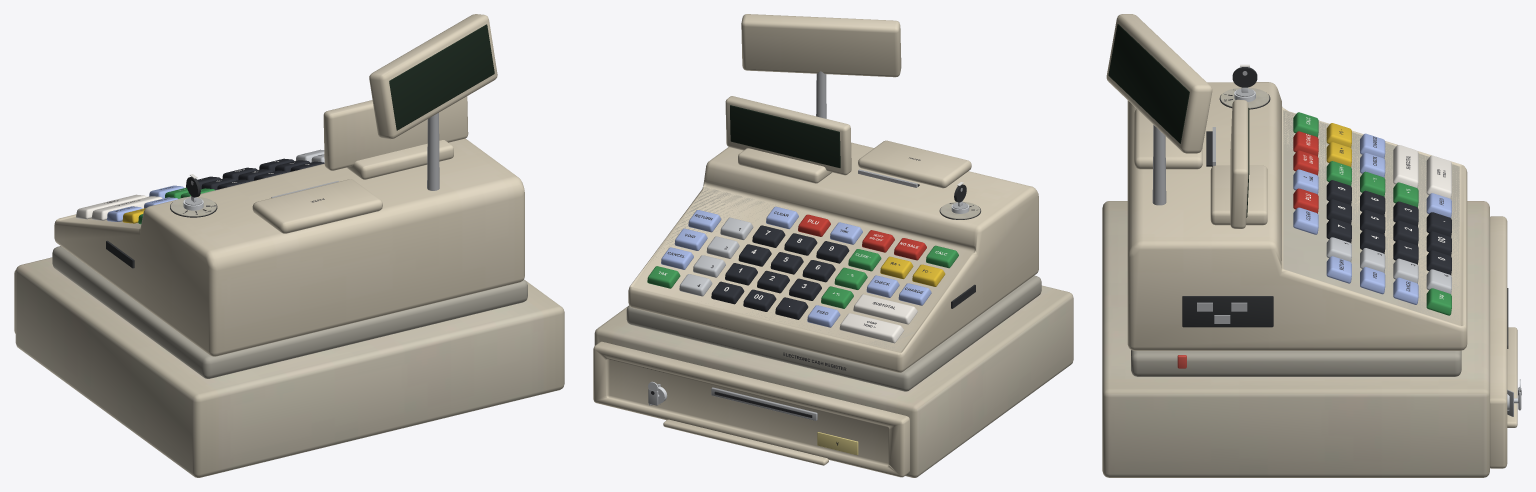
Rendered from register.glb.
3 renders of one model, left to right at view 1: azimuth 30°, elevation 25°; view 2: azimuth 150°, elevation 25°; view 3: azimuth 270°, elevation 25°, orthographic. The views are drawn at different scales.
Parts seen in each view (by area): view 1: RegWedge, RegCase, RegFootSlab, RegCustWindow, RegDisplay, RegPaperCover, RegCustDisplay, RegDisplayBase, RegStalk; view 2: RegWedge, RegCase, RegDrawerFront, RegCustDisplay, RegFootSlab, RegDisplayWindow, RegPaperCover, RegDisplay, RegDisplayBase, RegDrawerLip, RegPanelPlate, KeyCap_CASH (+37 smaller); view 3: RegCase, RegWedge, RegPanelPlate, RegFootSlab, RegDrawerFront, RegCustWindow, RegCustDisplay, RegSockets, RegDisplayBase, RegDisplay, RegPaperCover, RegStalk (+38 smaller).
Boxes of the visible parts, x1,y1,x2,y2 form: RegWedge: (54, 138, 524, 356); RegCase: (15, 257, 564, 477); RegFootSlab: (52, 246, 527, 378); RegCustWindow: (389, 24, 494, 130); RegDisplay: (323, 96, 468, 170); RegPaperCover: (252, 179, 382, 233); RegCustDisplay: (369, 14, 497, 139); RegDisplayBase: (347, 140, 453, 179); RegStalk: (427, 113, 439, 190); RegWedge: (628, 142, 1038, 372); RegCase: (594, 285, 1073, 477); RegDrawerFront: (593, 341, 909, 477); RegCustDisplay: (741, 14, 901, 77); RegFootSlab: (626, 275, 1041, 391); RegDisplayWindow: (730, 105, 840, 167); RegPaperCover: (858, 140, 971, 188); RegDisplay: (725, 96, 851, 175); RegDisplayBase: (738, 148, 831, 183); RegDrawerLip: (663, 419, 828, 465); RegPanelPlate: (656, 187, 963, 351); KeyCap_CASH: (839, 313, 904, 343); RegCase: (1102, 201, 1489, 477); RegWedge: (1127, 82, 1467, 350); RegPanelPlate: (1283, 110, 1459, 324); RegFootSlab: (1131, 350, 1461, 376); RegDrawerFront: (1490, 216, 1507, 468); RegCustWindow: (1108, 24, 1189, 143); RegCustDisplay: (1106, 14, 1212, 153); RegSockets: (1182, 296, 1273, 327); RegDisplayBase: (1210, 165, 1267, 225); RegDisplay: (1230, 99, 1248, 228); RegPaperCover: (1134, 109, 1202, 169); RegStalk: (1152, 125, 1166, 205).
Size of the model in its own units: 0.4 by 0.3679 by 0.3675.
26 materials, 3 textured.
